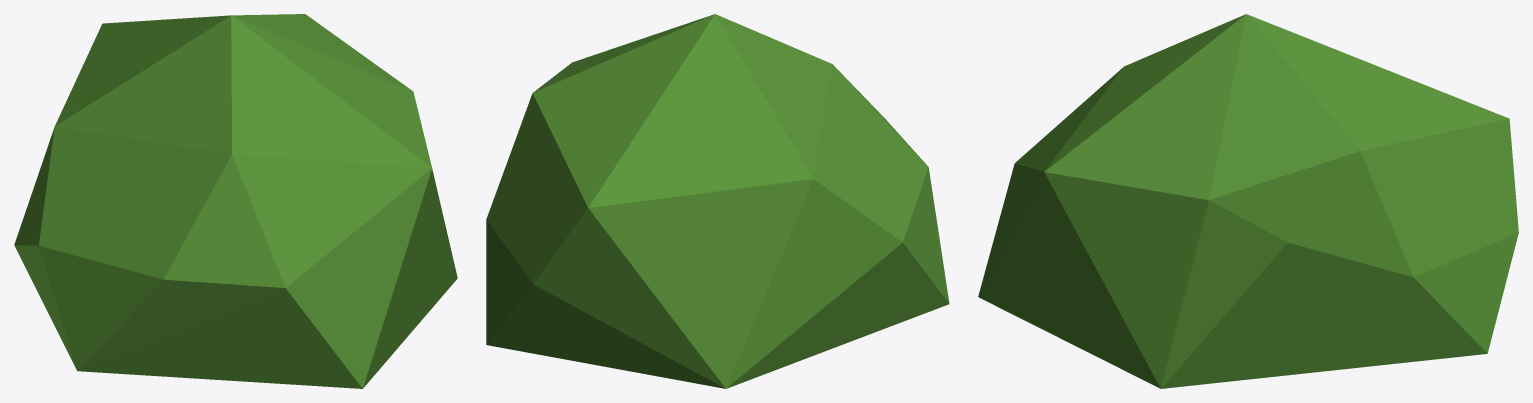
The model's file is Bush 1.fbx.
3 renders of one model, left to right at view 1: azimuth 30°, elevation 25°; view 2: azimuth 150°, elevation 25°; view 3: azimuth 270°, elevation 25°, orthographic. The views are drawn at different scales.
Visible parts, largest first — view 1: Bush 1; view 2: Bush 1; view 3: Bush 1.
Part boxes in pixels (bbox=[...]): Bush 1: bbox=[14, 14, 457, 388]; Bush 1: bbox=[486, 14, 949, 388]; Bush 1: bbox=[978, 14, 1518, 388].
Bounding box in the file's own units: 134 × 93.48 × 162.
Materials: 1 (1 with a texture image).
